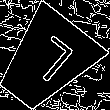L_SW: (17, 33, 75, 91)
